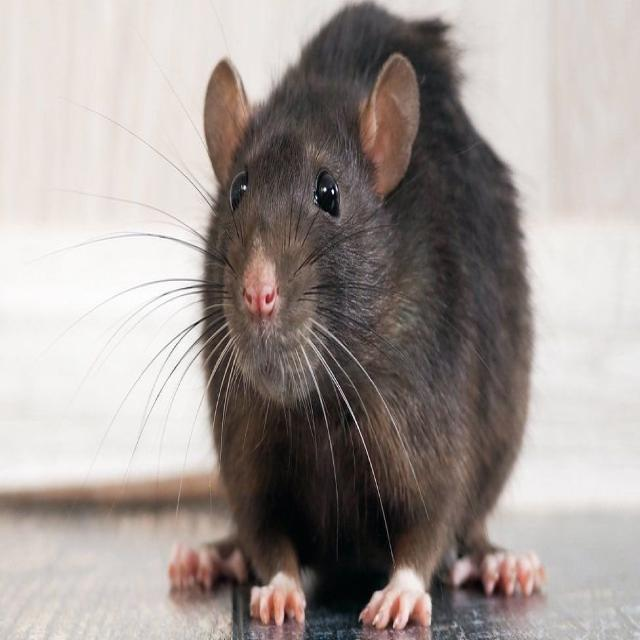rat: (169, 3, 544, 628)
